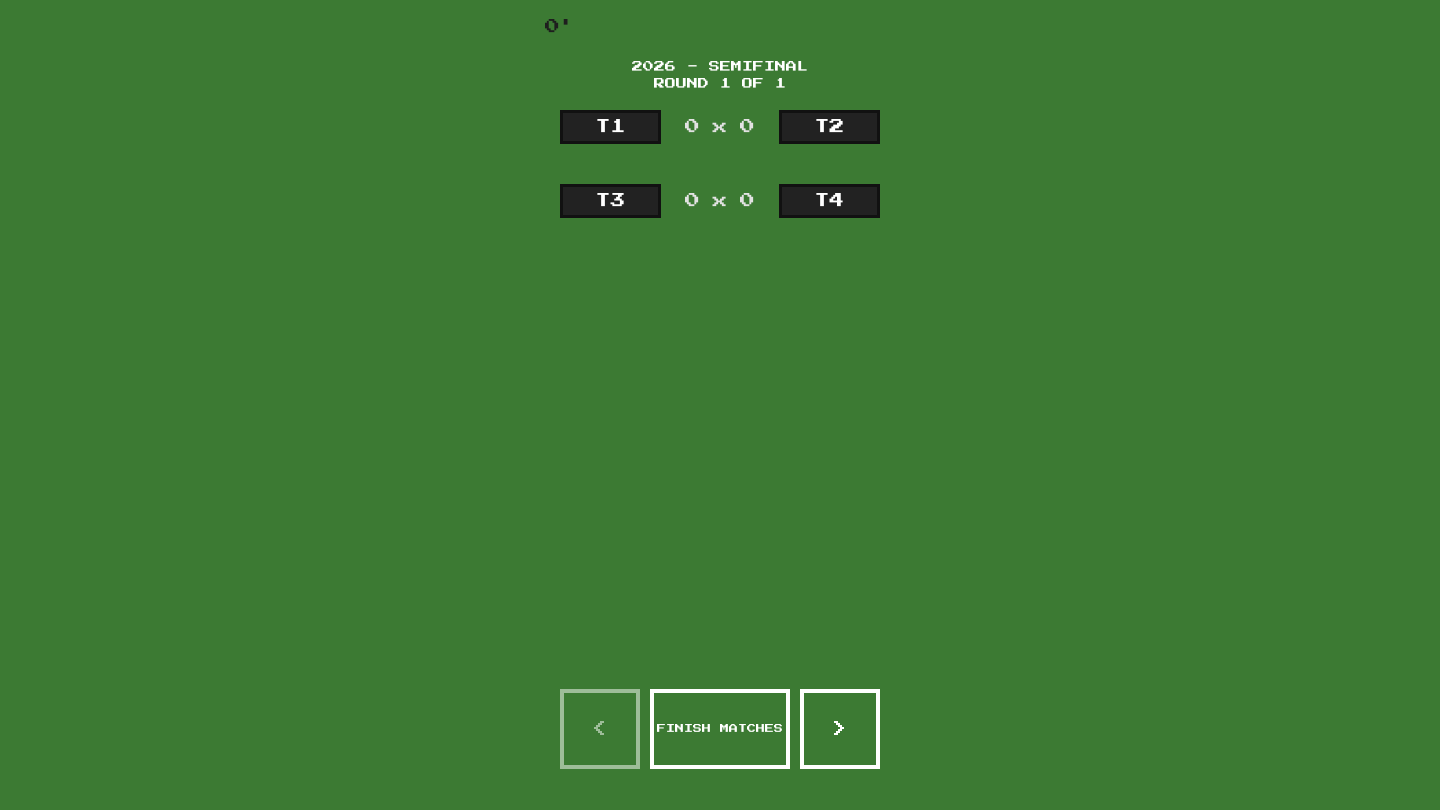
Test: MatchSimulator — a semifinal hosting a playoff (Série D 2026) › pages the playoff apart from the semifinals, under its own label
Expected: the text "2026 - Semifinal" is shown, [632,61,808,72]
Expected: the text "T5" is not shown
Click the button ">": (840, 729) [800,689,880,769]
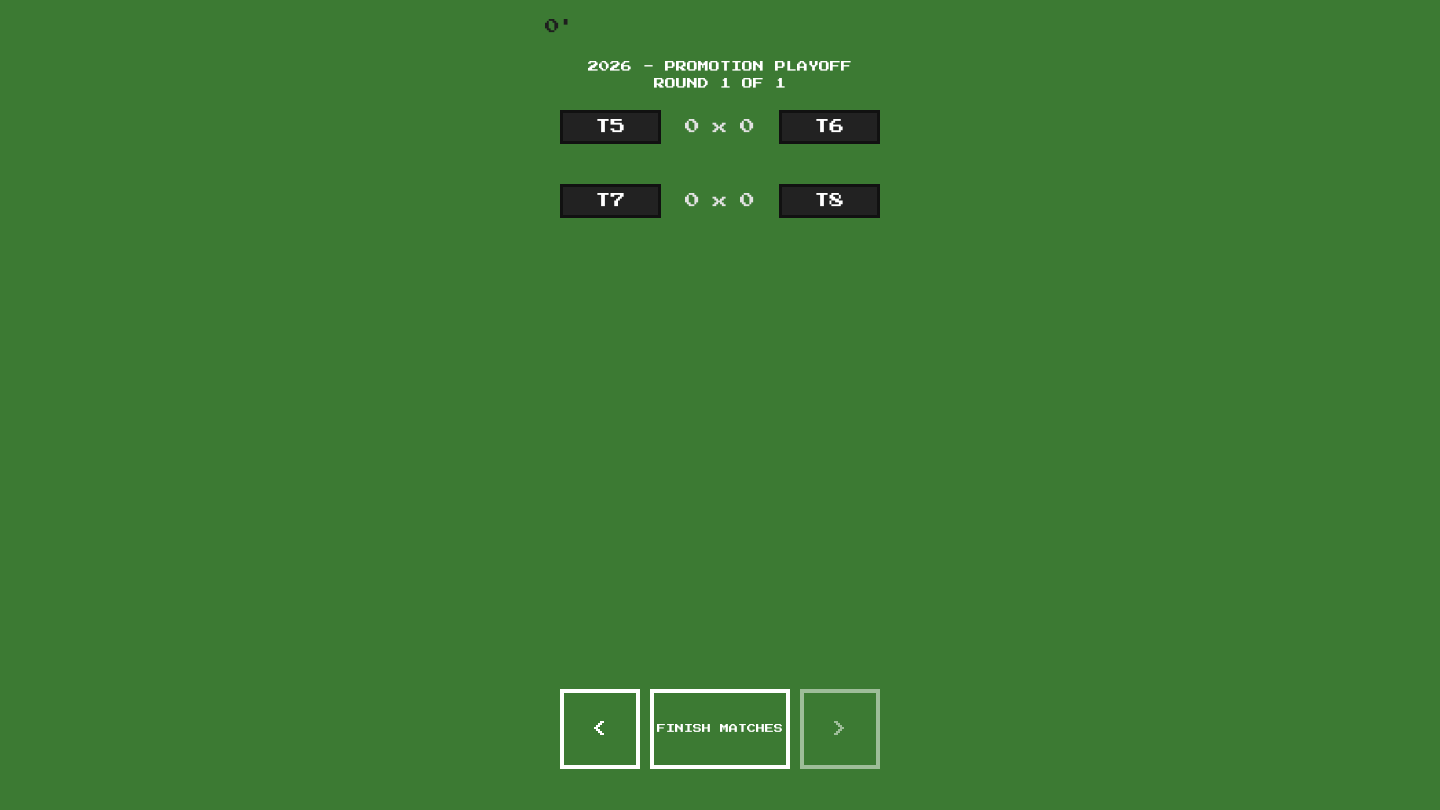
Now the text "2026 - PROMOTION PLAYOFF" is shown, box [565,59,875,76]
Now the heading "T5" is shown, box [596,116,626,138]
Now the heading "T1" is gone
